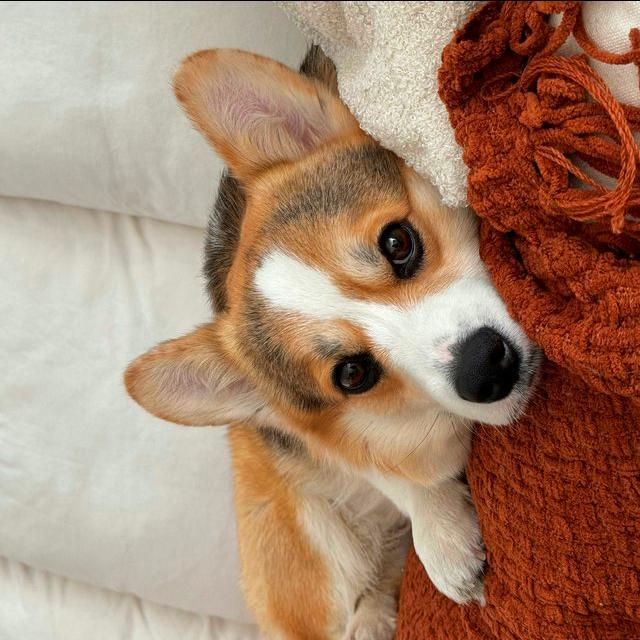corgi: (121, 40, 546, 639)
